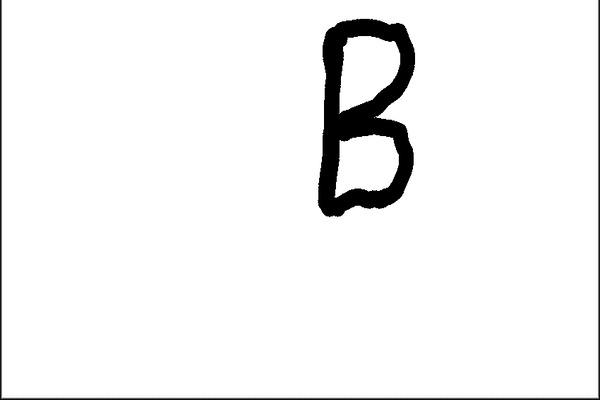B: (313, 12, 418, 223)
